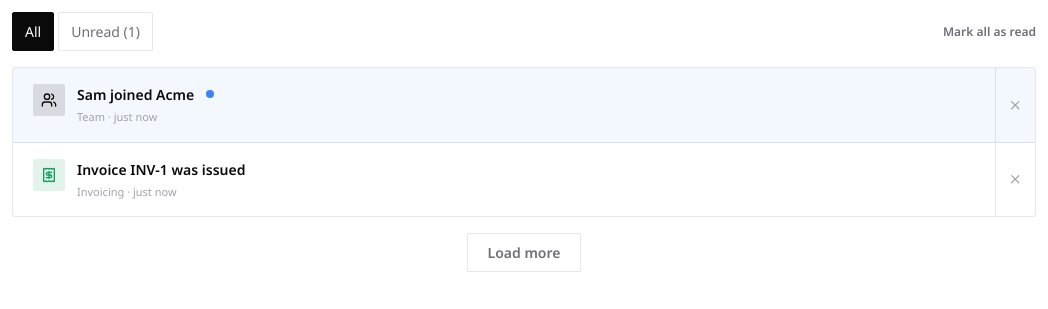
Test case: NotificationList › loads another page when has_more
Click the button "Load more". click: (524,252)
box: [466, 233, 582, 272]
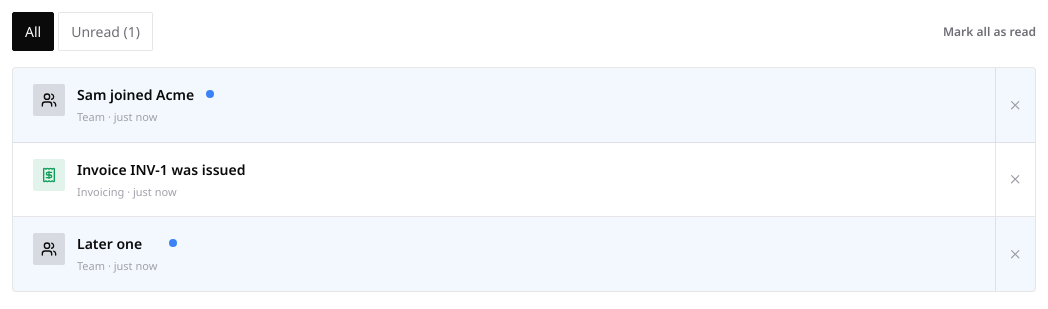
Now the text "Later one" is shown, box [77, 234, 142, 253]
